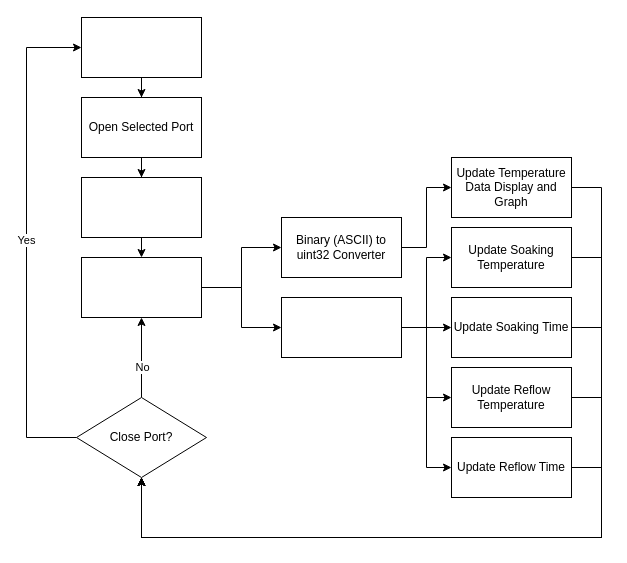
Image size: 627x563. Some labels were removed from this diagram. Here are the shapes that lost their labels. From the top down, the centre of each, then its label:
(x=141, y=47): Serial Port Selection
(x=141, y=207): Clear and Reset Temperature Graph
(x=141, y=287): Serial Port Data Input
(x=341, y=327): Binary Coded Decimal to uint32 Converter
